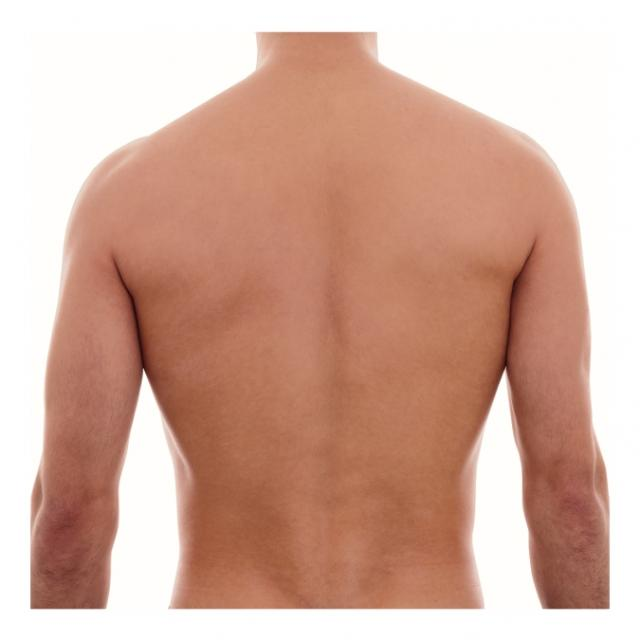piel: (30, 32, 613, 613)
